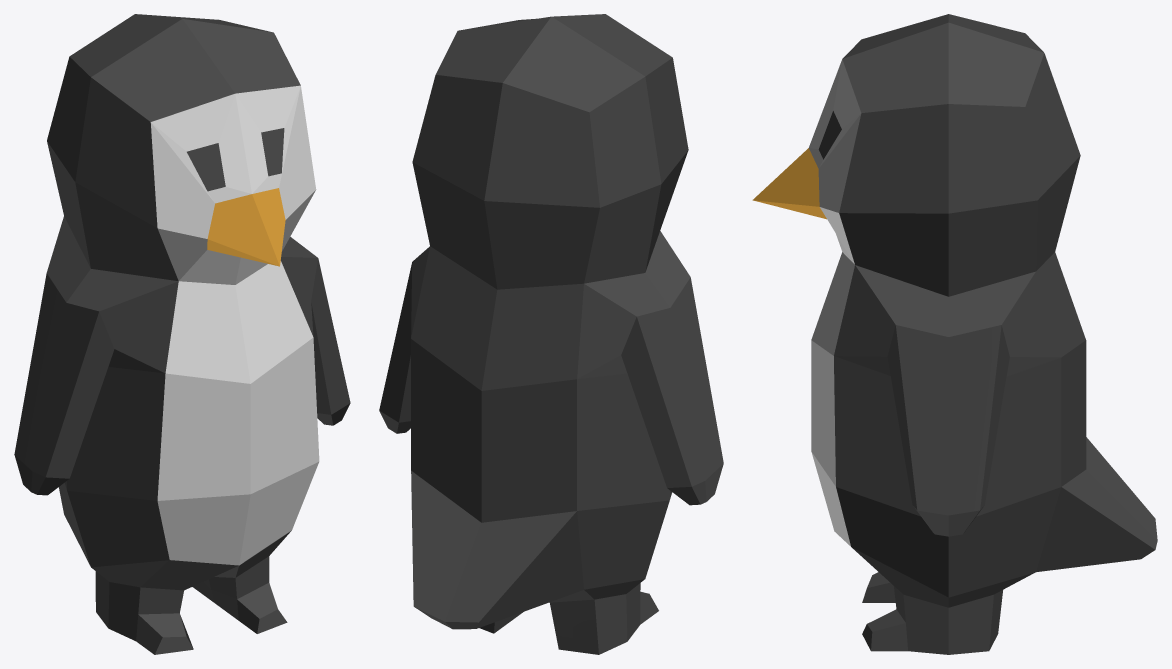
The model's file is Penguin.fbx.
3 renders of one model, left to right at view 1: azimuth 30°, elevation 25°; view 2: azimuth 150°, elevation 25°; view 3: azimuth 270°, elevation 25°, orthographic. The views are drawn at different scales.
Visible parts, largest first — view 1: Penguin; view 2: Penguin; view 3: Penguin.
Part boxes in pixels (<box>): Penguin: <box>14,14,350,654</box>; Penguin: <box>379,14,723,654</box>; Penguin: <box>752,14,1157,654</box>.
Size of the model in its own units: 55.54 by 103 by 63.47.
